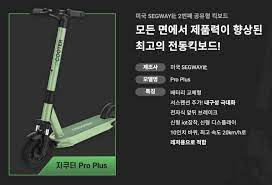kick_handler: (32, 7, 85, 26)
kick_neck: (41, 30, 67, 117)
kick_wheel: (23, 136, 52, 165)
